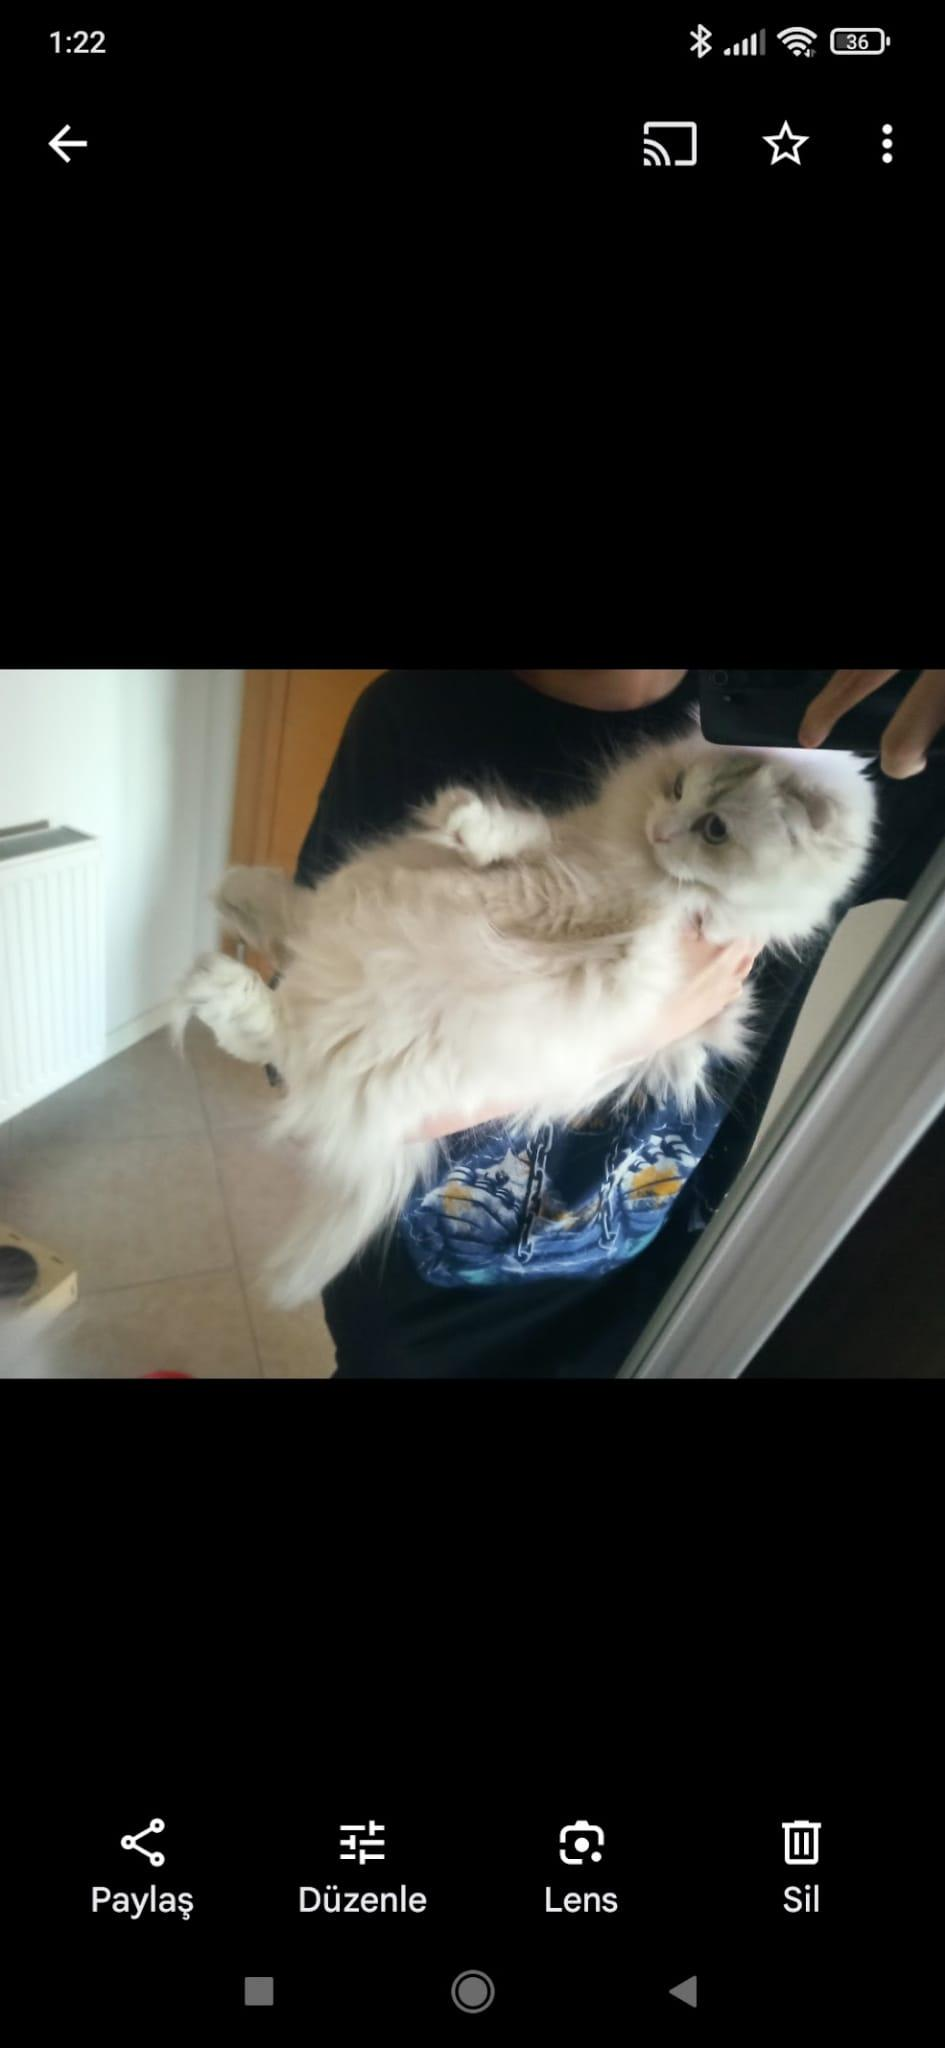kedo: (176, 747, 871, 1306)
